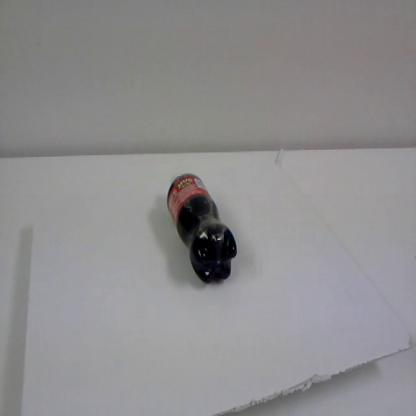bottle: (164, 171, 238, 285)
